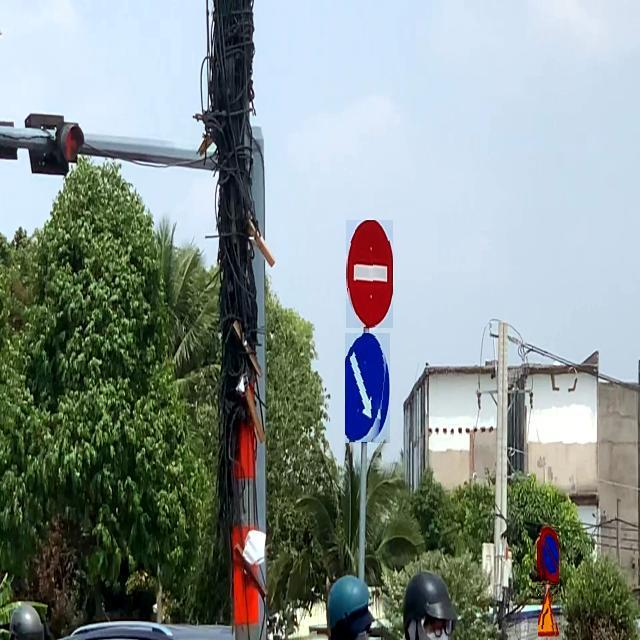P-102: (346, 220, 393, 328)
P-131a: (537, 528, 559, 586)
R-302a: (345, 333, 390, 443)
W-201b: (538, 588, 560, 637)
